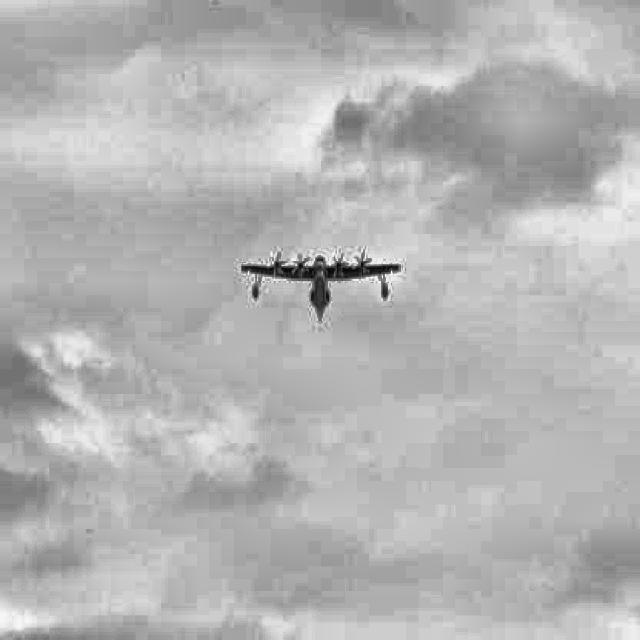US2: (240, 248, 400, 324)
